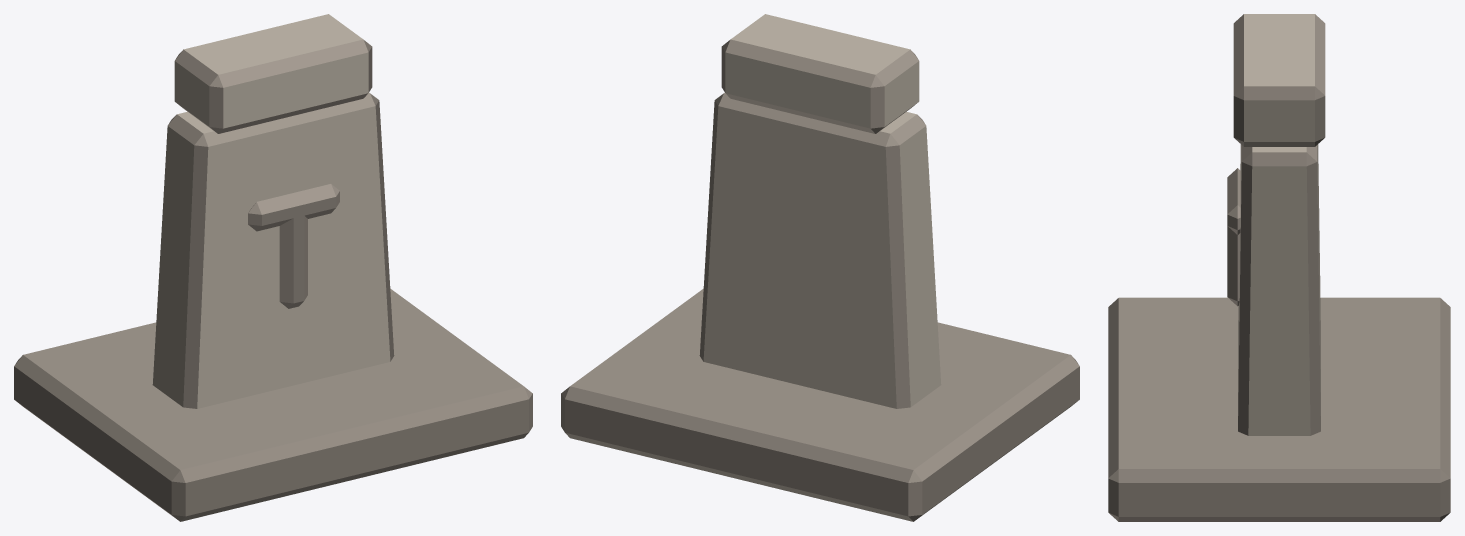
File: SM_Kit_lapide.fbx
The picture shows the model from 3 angles, left to right: view 1: azimuth 30°, elevation 25°; view 2: azimuth 150°, elevation 25°; view 3: azimuth 270°, elevation 25°; orthographic projection. The views are drawn at different scales.
Parts seen in each view (by area): view 1: SM_Kit_lapide; view 2: SM_Kit_lapide; view 3: SM_Kit_lapide.
Part boxes in pixels (left/top/right/bottom): SM_Kit_lapide: left=14, top=14, right=532, bottom=521; SM_Kit_lapide: left=561, top=14, right=1079, bottom=521; SM_Kit_lapide: left=1108, top=14, right=1450, bottom=521.
Size of what is drawn, in the model's own units: 102 by 102 by 82.
